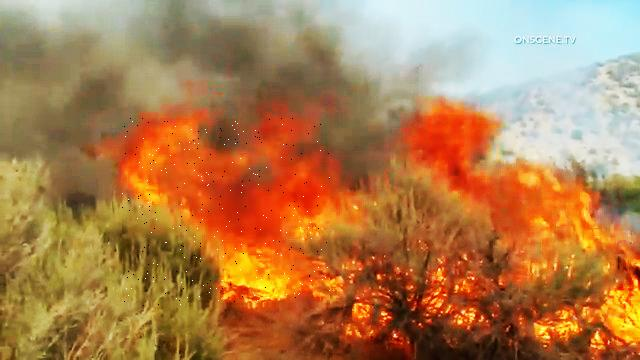fire: (122, 119, 330, 307)
